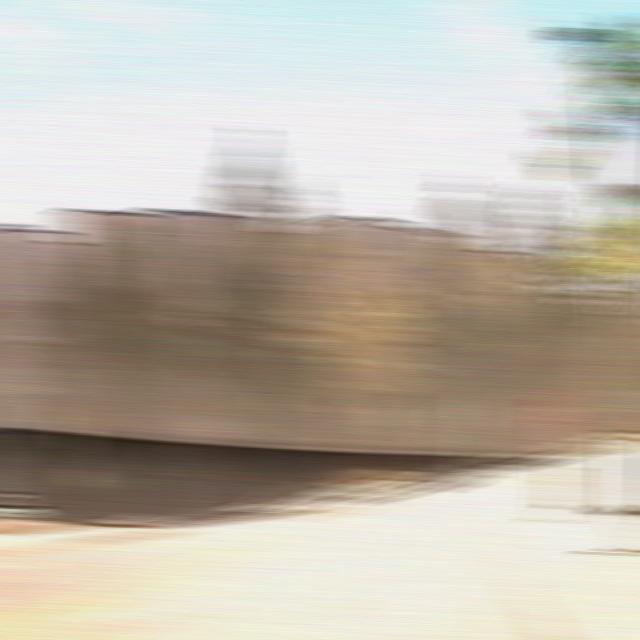stop: (529, 394, 575, 434)
